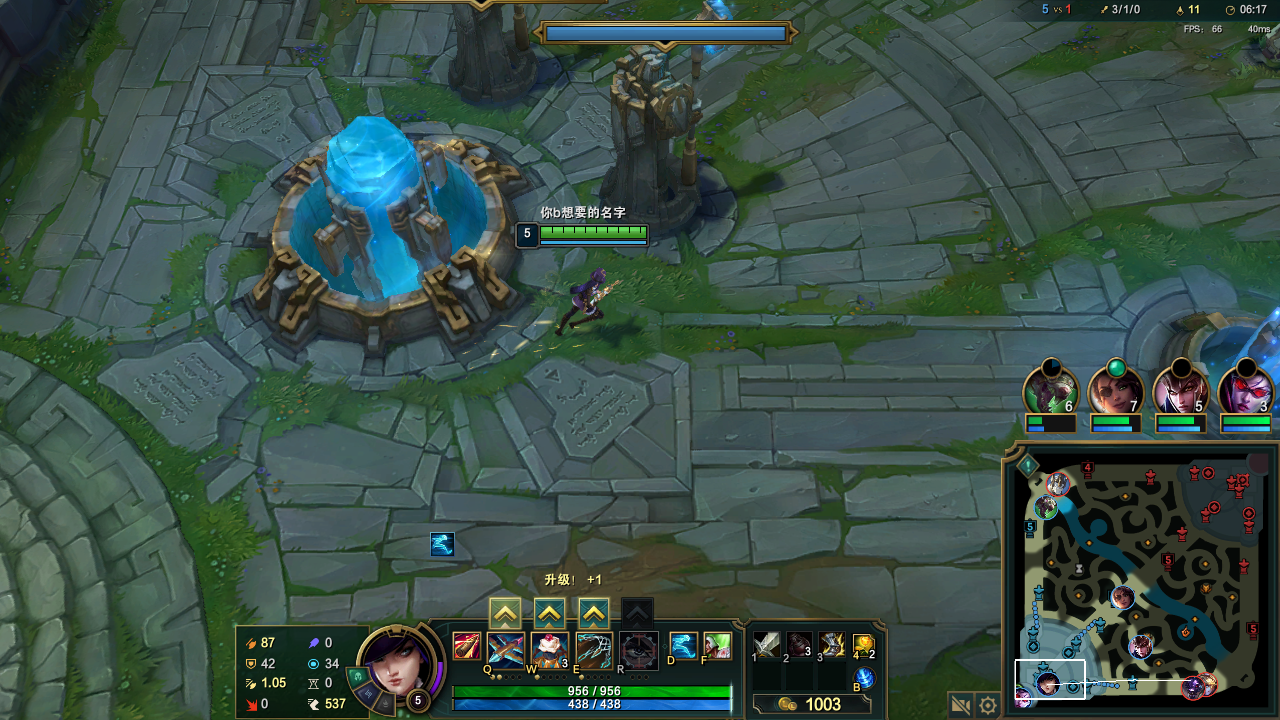Shenji: (581, 604, 607, 632), (534, 602, 557, 624)
Tuijianshengji: (491, 602, 523, 622)
WFSJ: (276, 147, 493, 327)
